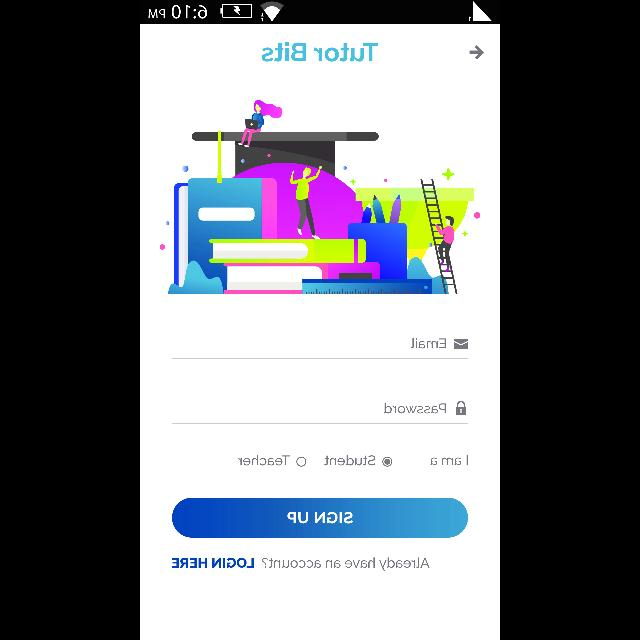checkbox: (297, 456, 307, 466), (382, 456, 392, 466)
icon: (468, 46, 484, 60), (454, 339, 468, 349), (456, 401, 466, 415)
image: (160, 100, 480, 294)
input: (172, 400, 468, 424), (172, 338, 468, 360)
text: (262, 557, 430, 571), (262, 42, 378, 62), (172, 558, 254, 568), (384, 402, 446, 413), (324, 454, 376, 466), (238, 454, 290, 466), (430, 454, 468, 466), (410, 338, 446, 349)
textbutton: (172, 498, 468, 538)
uppertaskbar: (140, 0, 500, 24)
